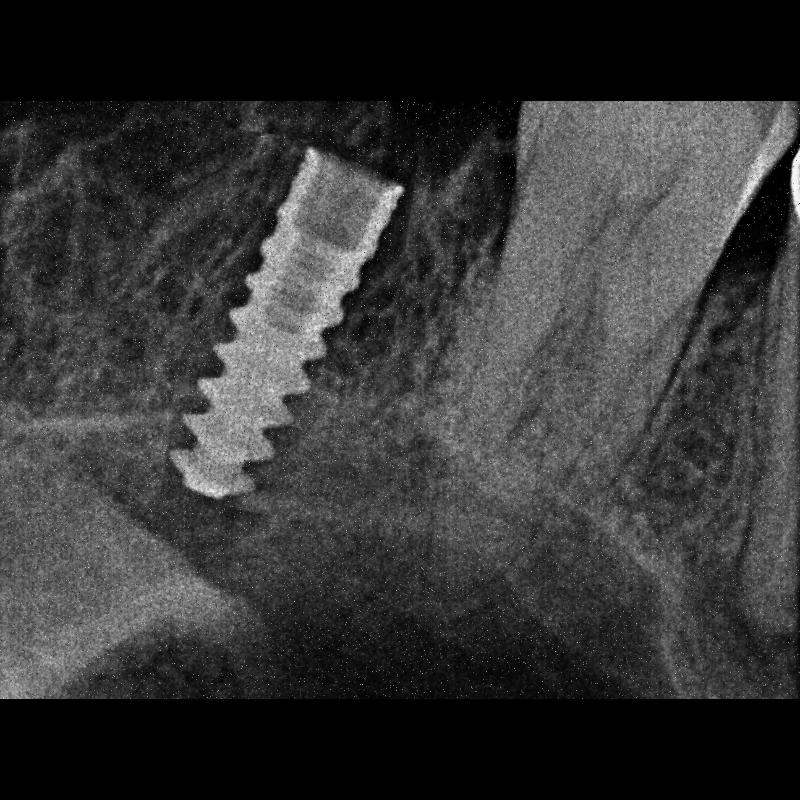ADIN: (172, 131, 406, 520)
